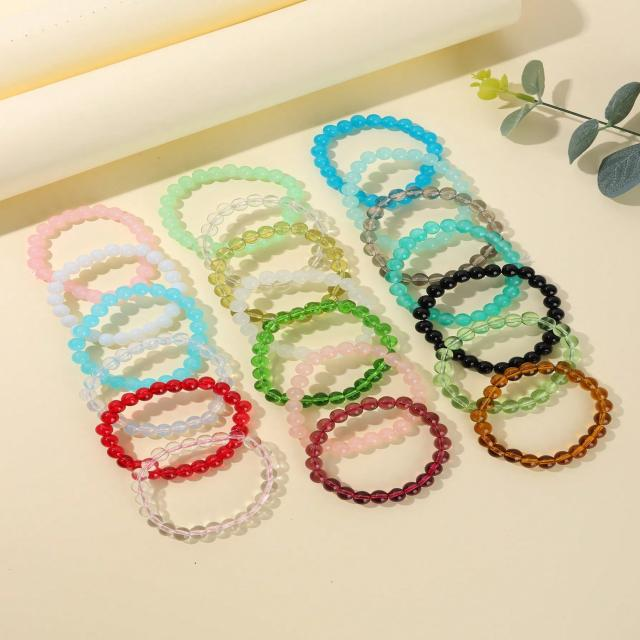bracelet: (0, 71, 640, 554)
